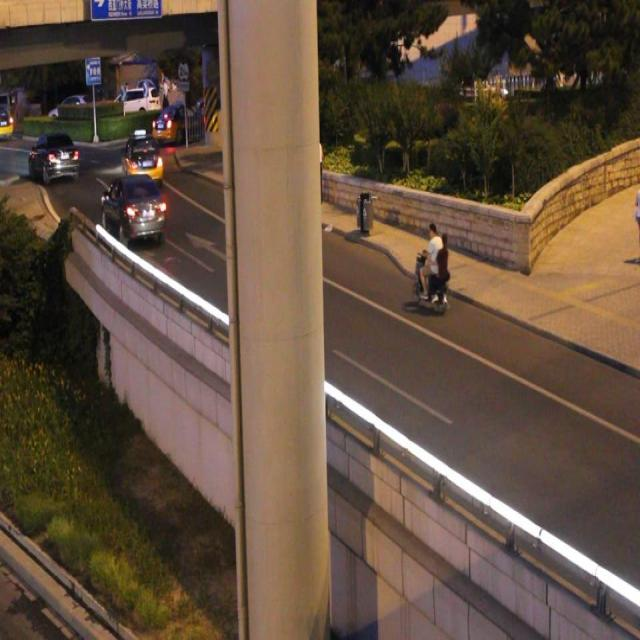car: (103, 178, 164, 240), (30, 134, 78, 180), (122, 138, 162, 183), (153, 106, 202, 142)
